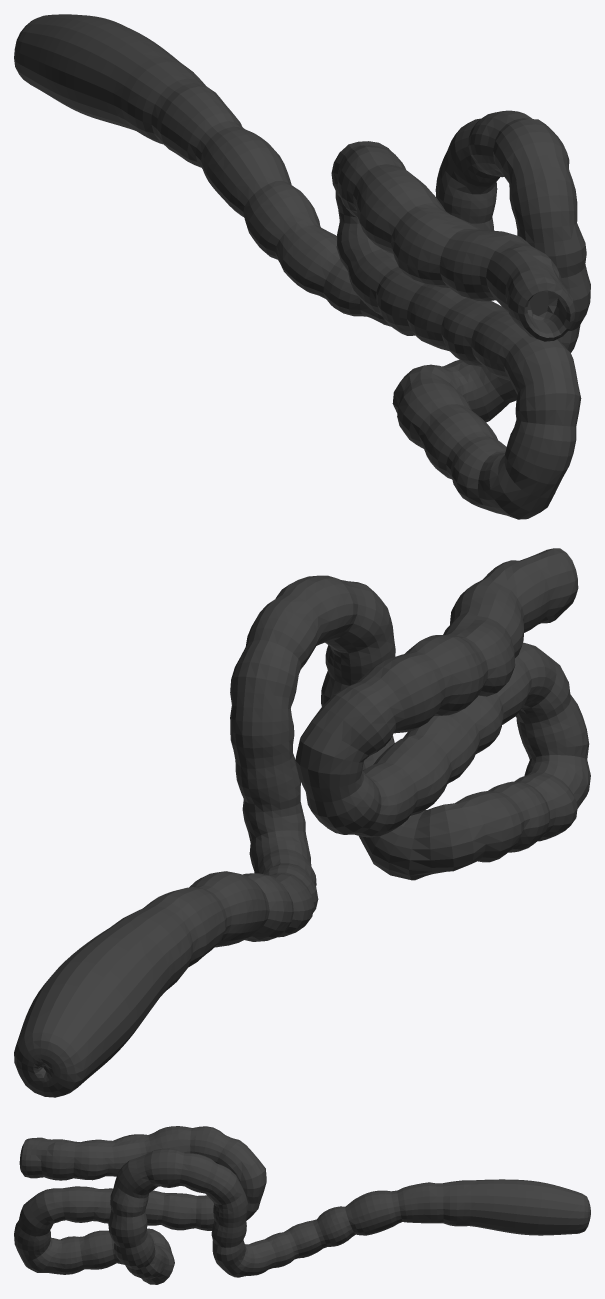
The model's file is Small_colon.glb.
The picture shows the model from 3 angles, top to bottom: view 1: azimuth 30°, elevation 25°; view 2: azimuth 150°, elevation 25°; view 3: azimuth 270°, elevation 25°; orthographic projection. The views are drawn at different scales.
Parts seen in each view (by area): view 1: Small_colon; view 2: Small_colon; view 3: Small_colon.
Part boxes in pixels (left/top/right/bottom): Small_colon: left=14, top=14, right=590, bottom=519; Small_colon: left=14, top=548, right=590, bottom=1097; Small_colon: left=14, top=1126, right=590, bottom=1284.
Size of the model in its own units: 0.3219 by 0.4496 by 1.49.
1 material, 1 textured.
